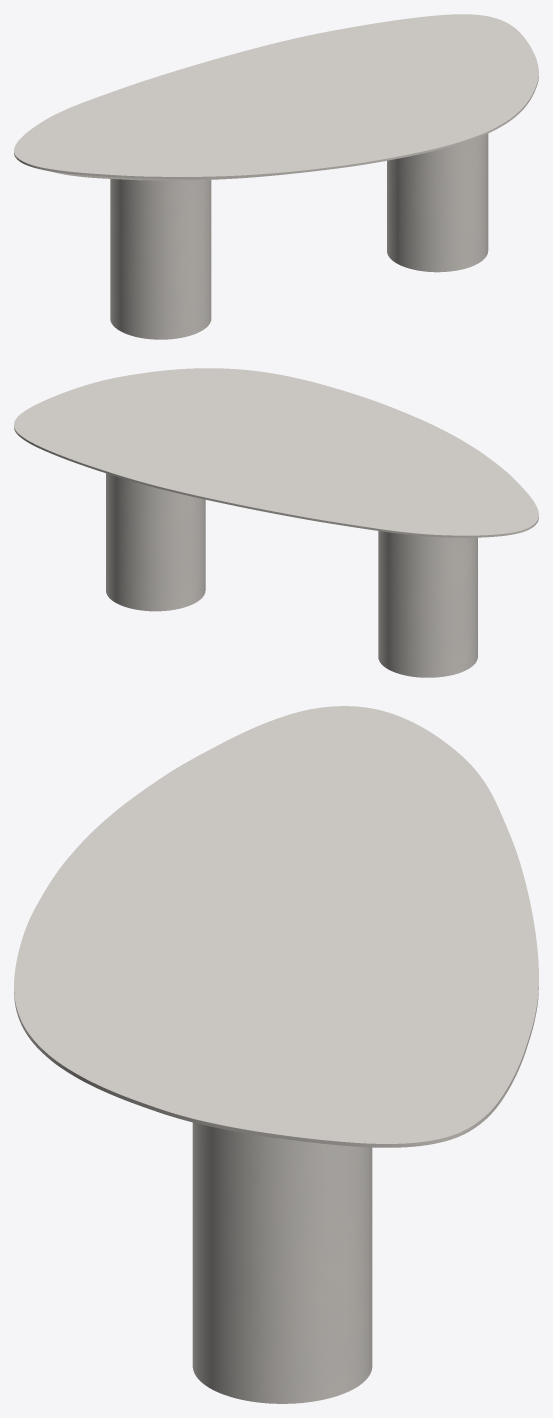
Rendered from pearlwhite_pebbletop_facet_stream.glb.
The picture shows the model from 3 angles, top to bottom: view 1: azimuth 30°, elevation 25°; view 2: azimuth 150°, elevation 25°; view 3: azimuth 270°, elevation 25°; orthographic projection. The views are drawn at different scales.
Visible parts, largest first — view 1: facet_pebbletop, stream; view 2: facet_pebbletop, stream; view 3: facet_pebbletop, stream.
Part boxes in pixels (left/top/right/bottom): facet_pebbletop: left=14, top=14, right=538, bottom=180; stream: left=110, top=133, right=488, bottom=339; facet_pebbletop: left=14, top=368, right=538, bottom=537; stream: left=106, top=473, right=477, bottom=677; facet_pebbletop: left=14, top=706, right=538, bottom=1147; stream: left=192, top=1122, right=372, bottom=1403.
Size of the model in its own units: 7.5 by 2.5 by 3.8.
1 material, 1 textured.
